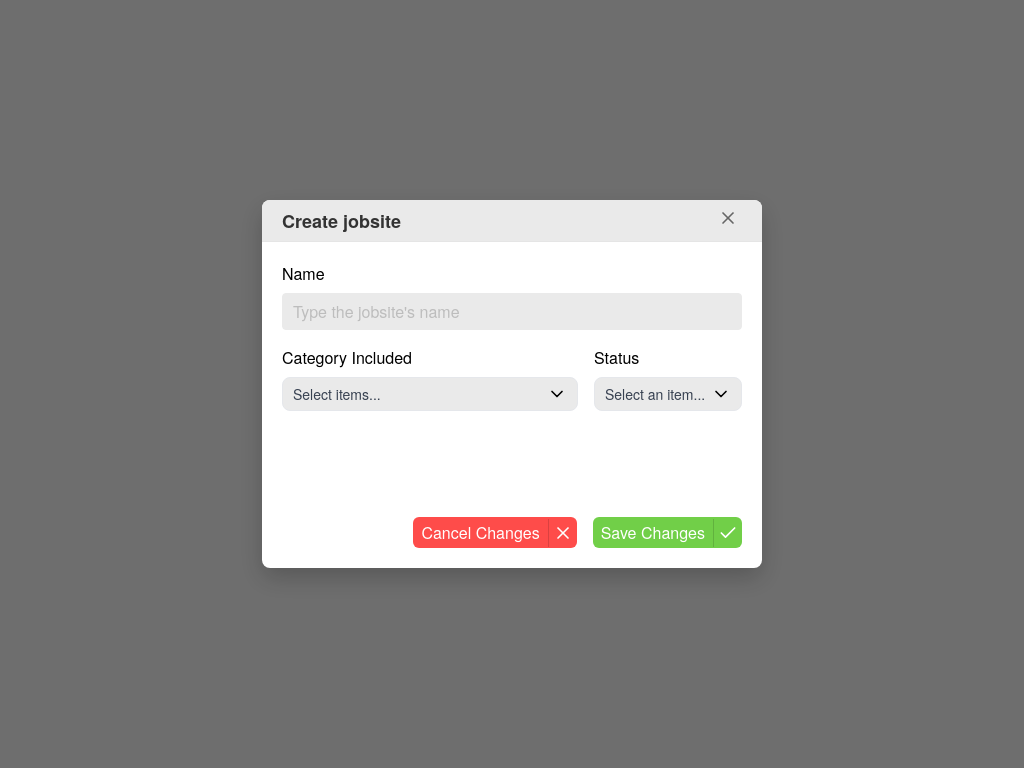
Test: CreateSiteModal › User interactions › selects categories and displays them as selected items
The image size is (1024, 768).
Click the text "Select items..." at x=337, y=394, box [293, 384, 381, 404]
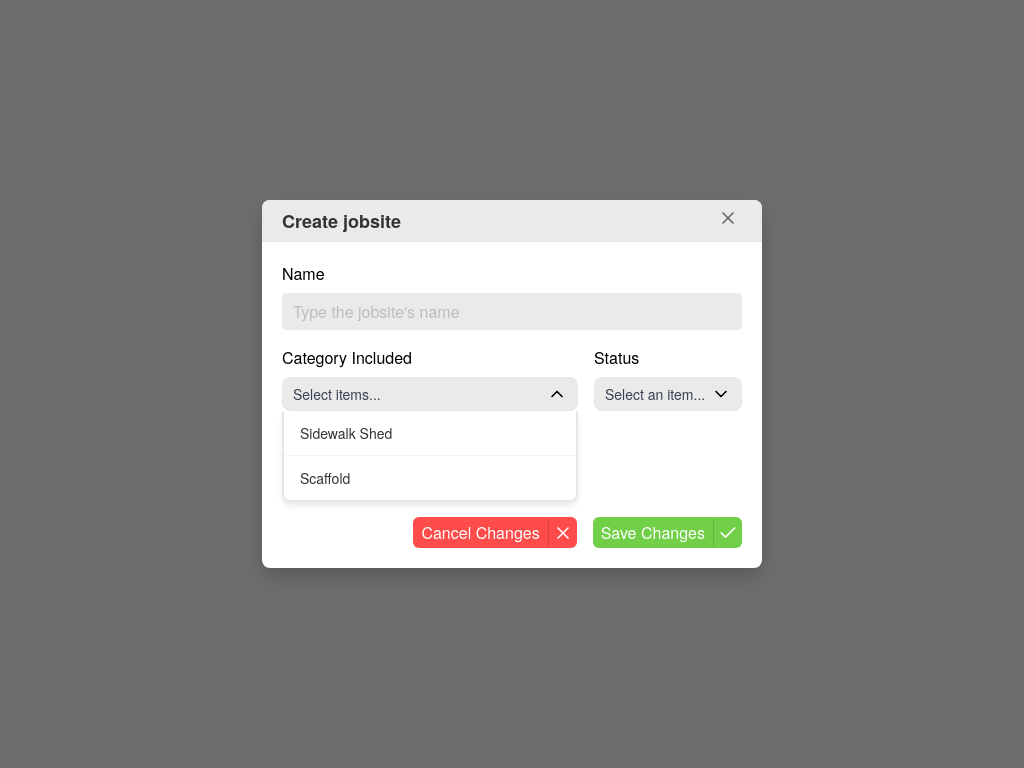
Click the text "Sidewalk Shed" at x=346, y=433, box [300, 423, 392, 443]
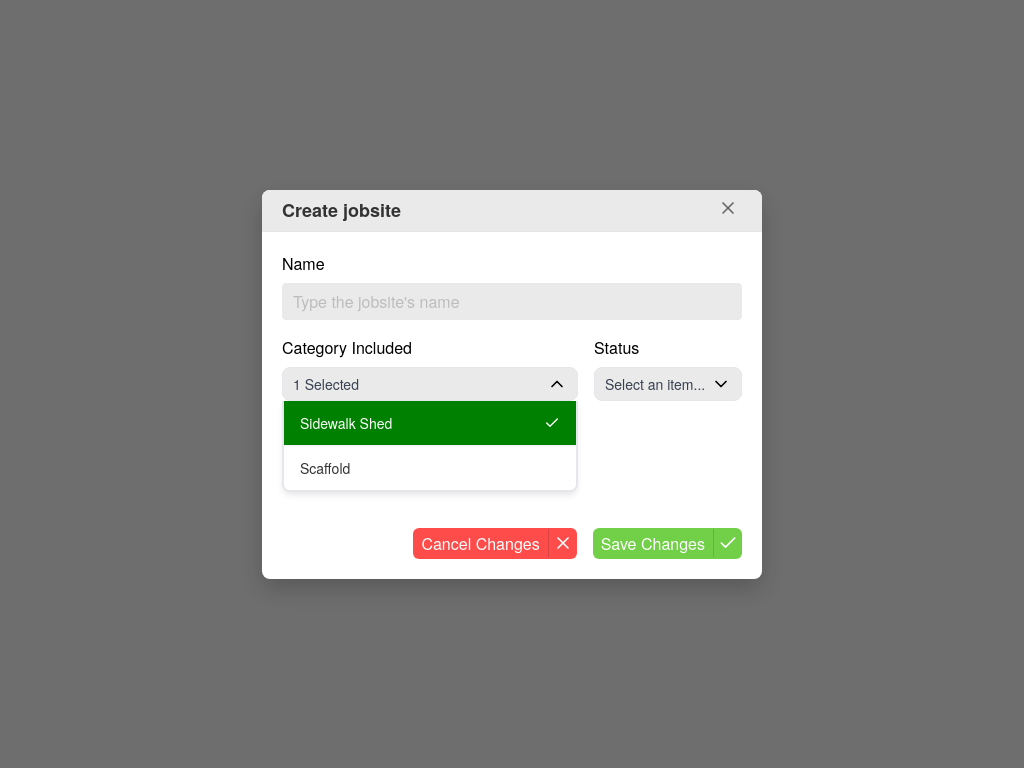
Click the text "Scaffold" at x=325, y=468, box [300, 458, 350, 478]
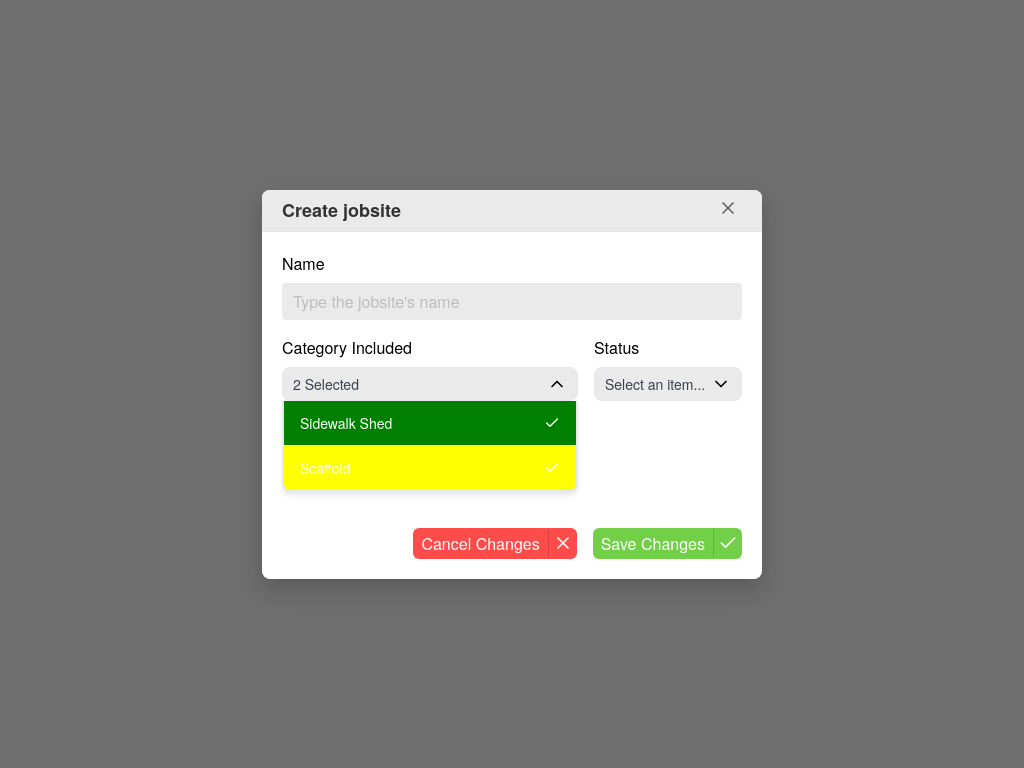
Now the text "2 Selected" is shown, box [293, 374, 359, 394]
